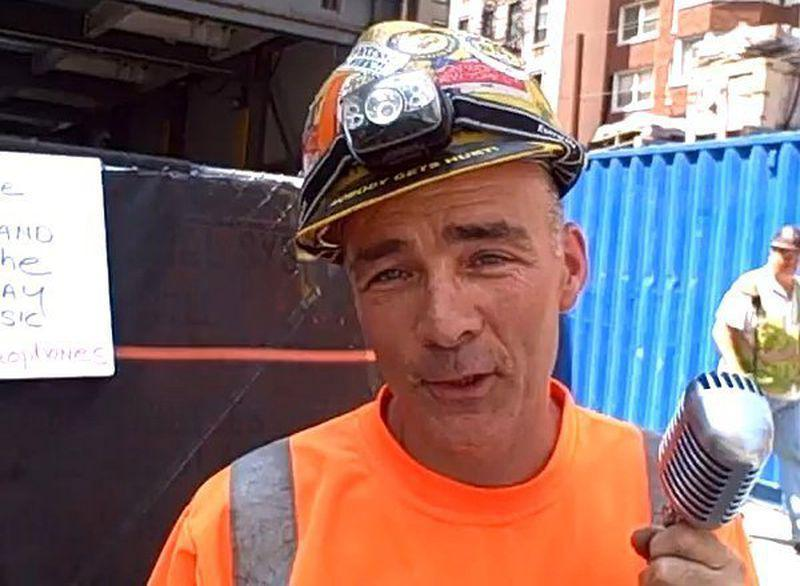helmet: (292, 19, 585, 243)
